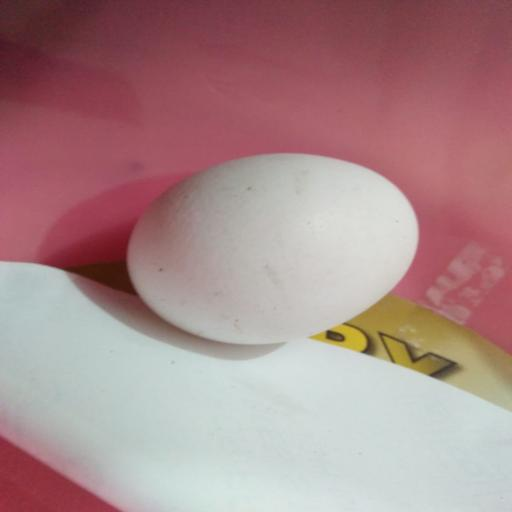telur: (125, 143, 423, 348)
